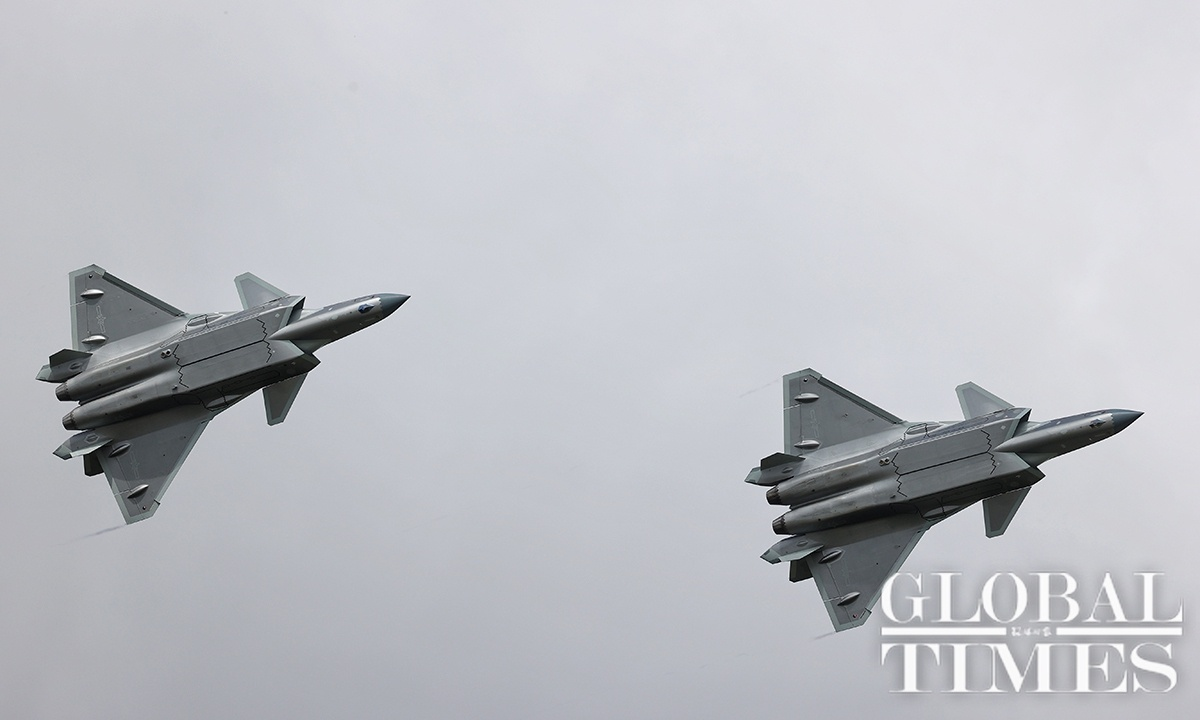J20: (743, 367, 1145, 633), (34, 263, 412, 525)
